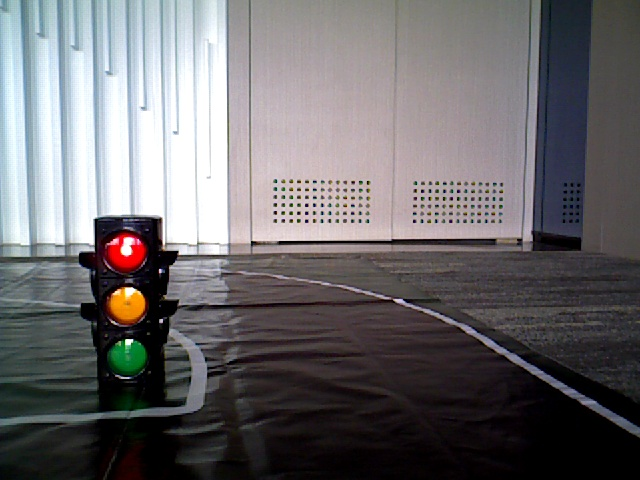red: (93, 223, 162, 396)
